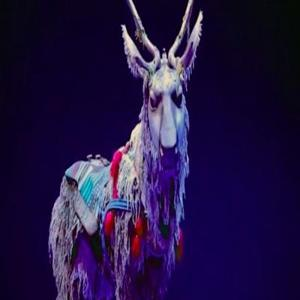sven: (94, 12, 203, 295)
